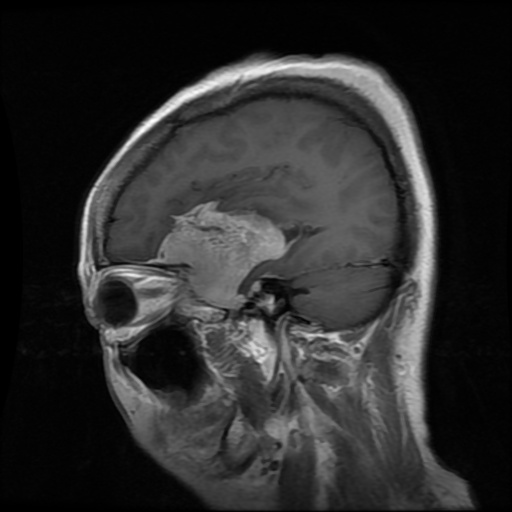meningioma: (157, 198, 290, 308)
